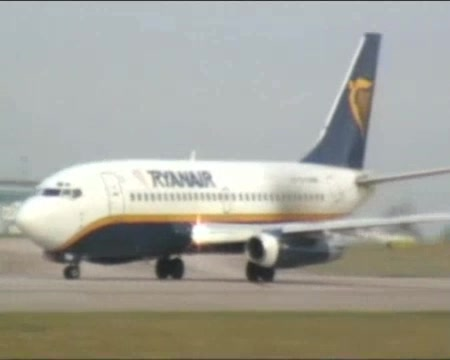aeroplane: (13, 30, 449, 284)
